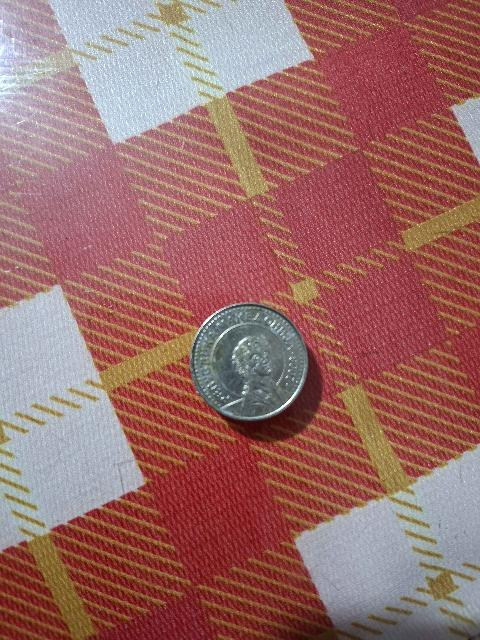coin: (193, 307, 305, 418)
